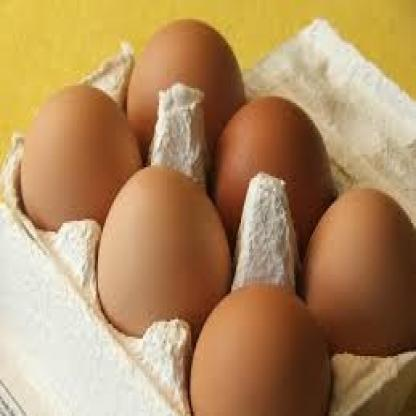egg: (95, 163, 238, 346), (207, 93, 336, 266), (295, 182, 416, 358), (126, 17, 247, 191), (188, 280, 336, 416), (17, 82, 145, 235)
